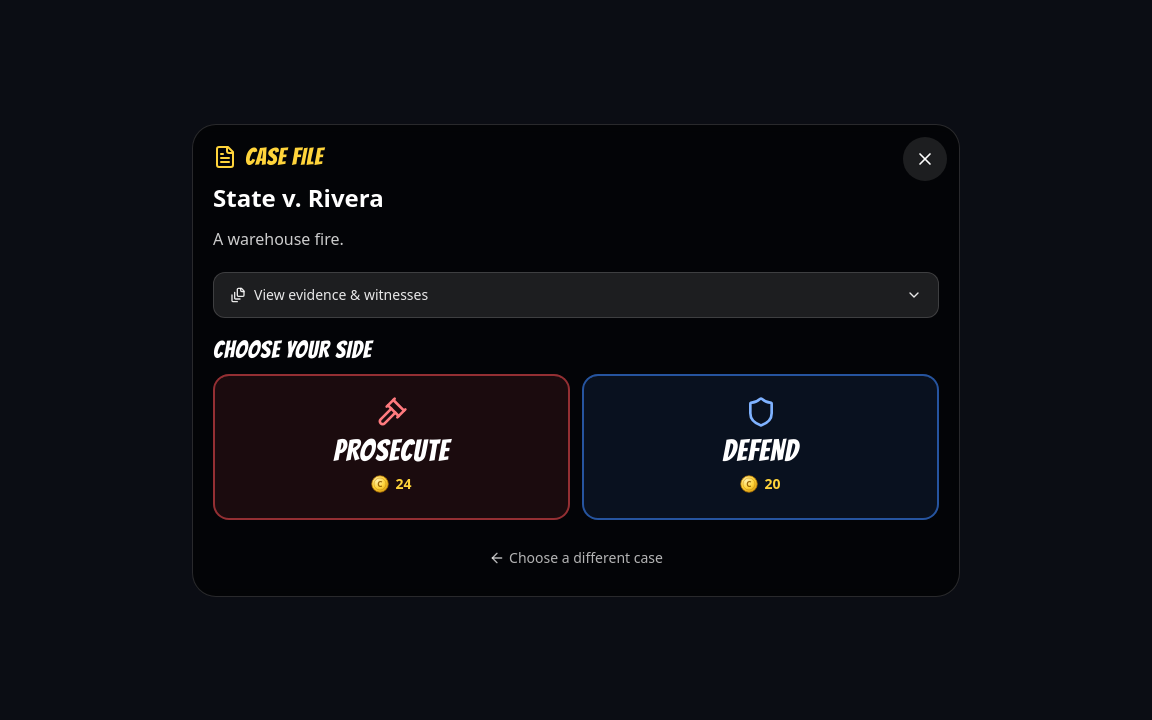
Scenario: CasePreview (accept the case) › says so when the fee is the reduced repeat-win payment
Expected: the element named "24 coins for a win" is shown, x1=372 y1=474 x2=412 y2=498
Click the button "PROSECUTE C 24" at {"x": 392, "y": 446}, box x1=213 y1=374 x2=570 y2=520
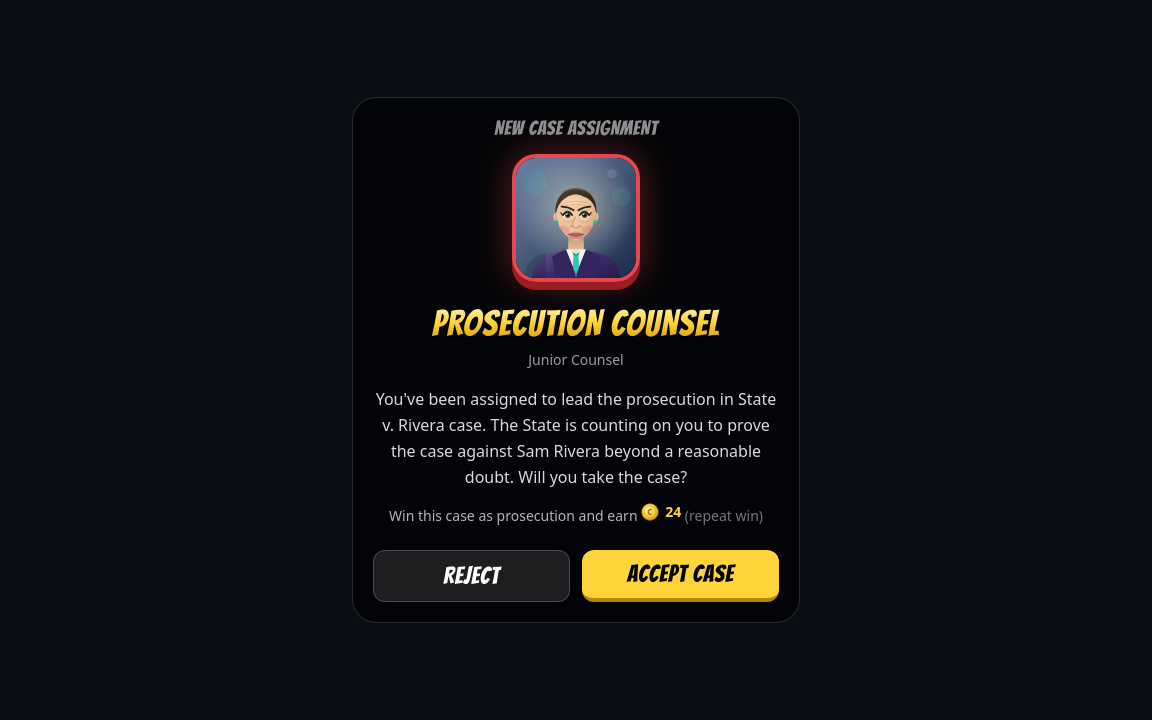
Now the text "(repeat win)" is shown, box x1=681 y1=506 x2=763 y2=525
